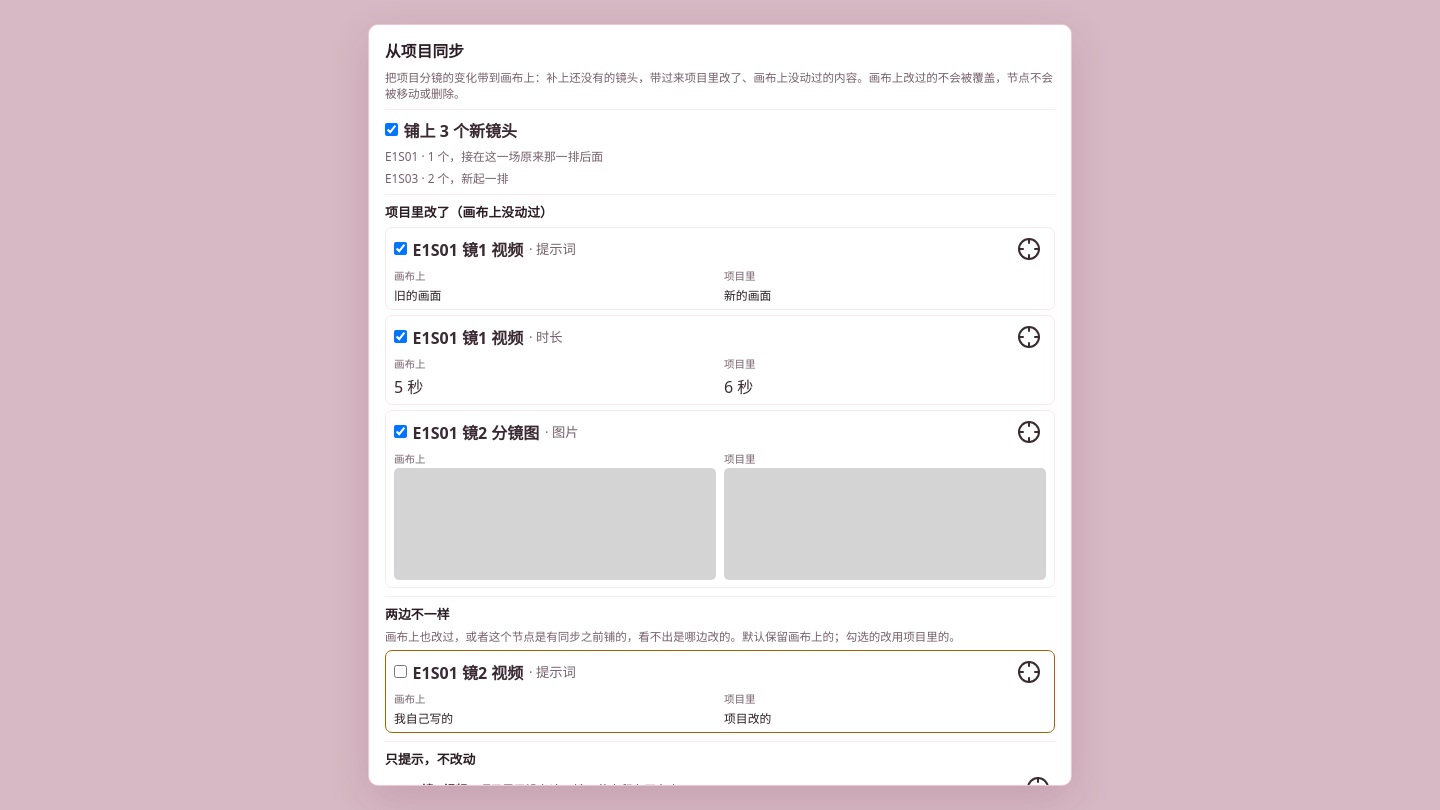
syncing the canvas with the project › sends what the person kept, with the review it answers, and shows what changed
Expected: the text "铺上 3 个新镜头" is shown, [404, 118, 517, 142]
Click the checkbox named "用项目里的时长：E1S01 镜1 视频" at point(400, 337), box [394, 330, 407, 343]
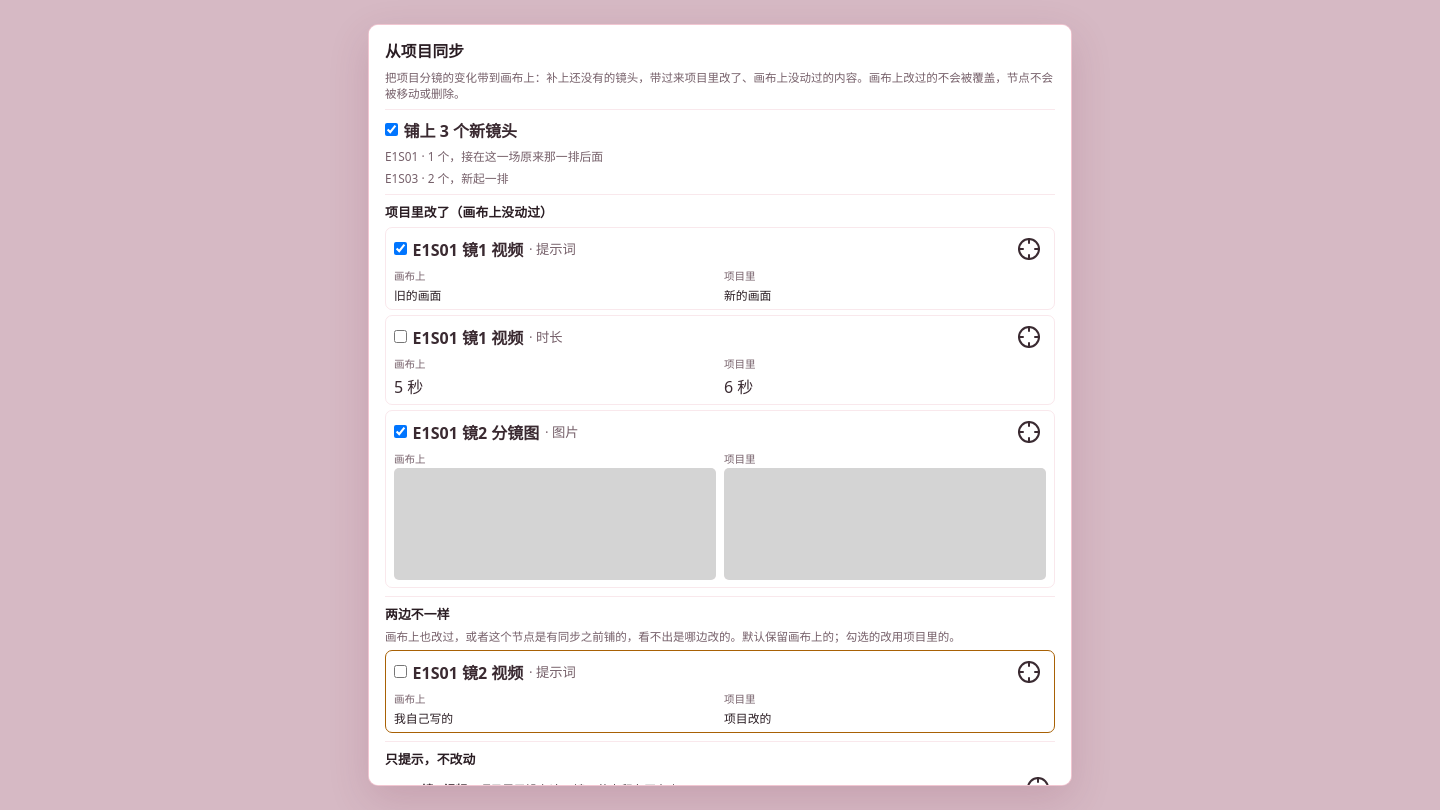
Click the checkbox named "用项目里的提示词：E1S01 镜2 视频" at point(400, 672), box [394, 665, 407, 678]
(page scrolled)
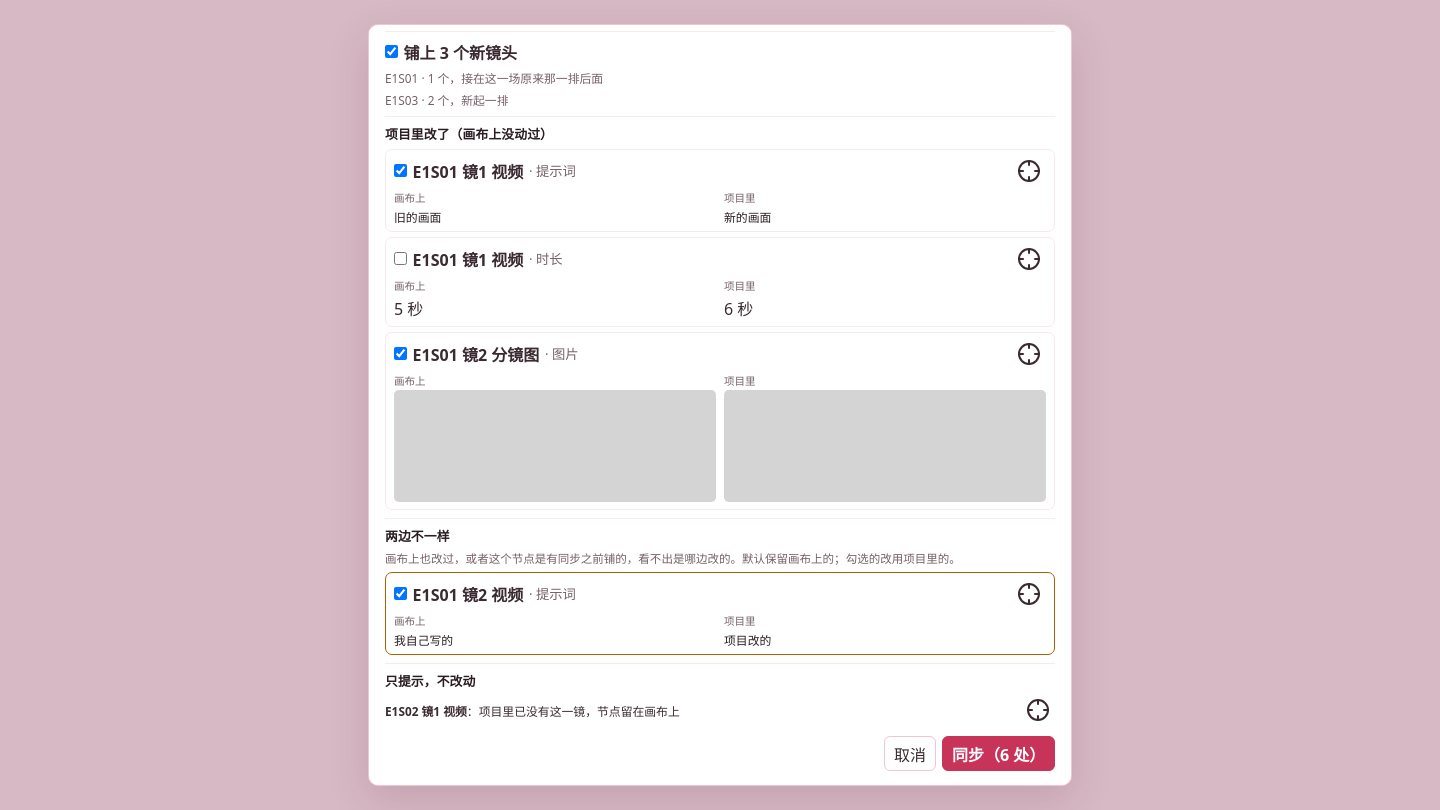
Click the button "同步（6 处）" at point(999, 754), box [942, 736, 1055, 771]
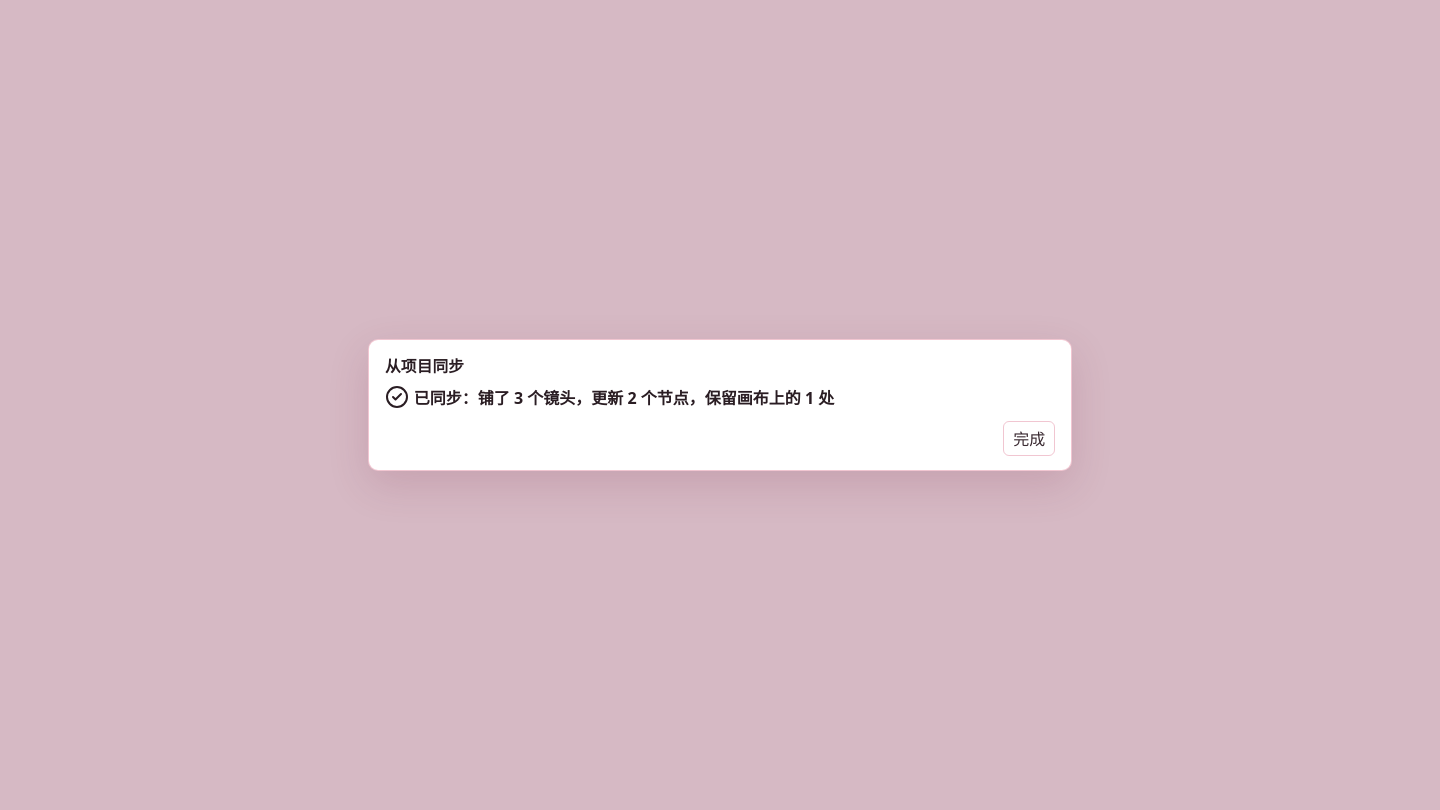
Result: the text "已同步：铺了 3 个镜头，更新 2 个节点，保留画布上的 1 处" is shown at [385, 385, 834, 409]
